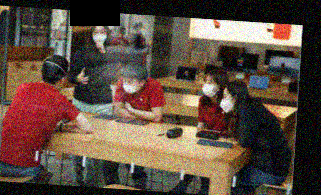with_mask: (219, 92, 234, 114), (121, 77, 140, 94), (201, 78, 217, 96), (91, 27, 107, 43)
